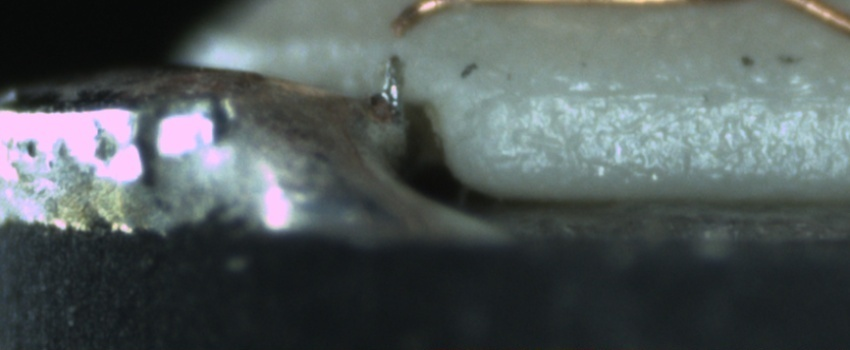DL: (515, 63, 849, 121)
